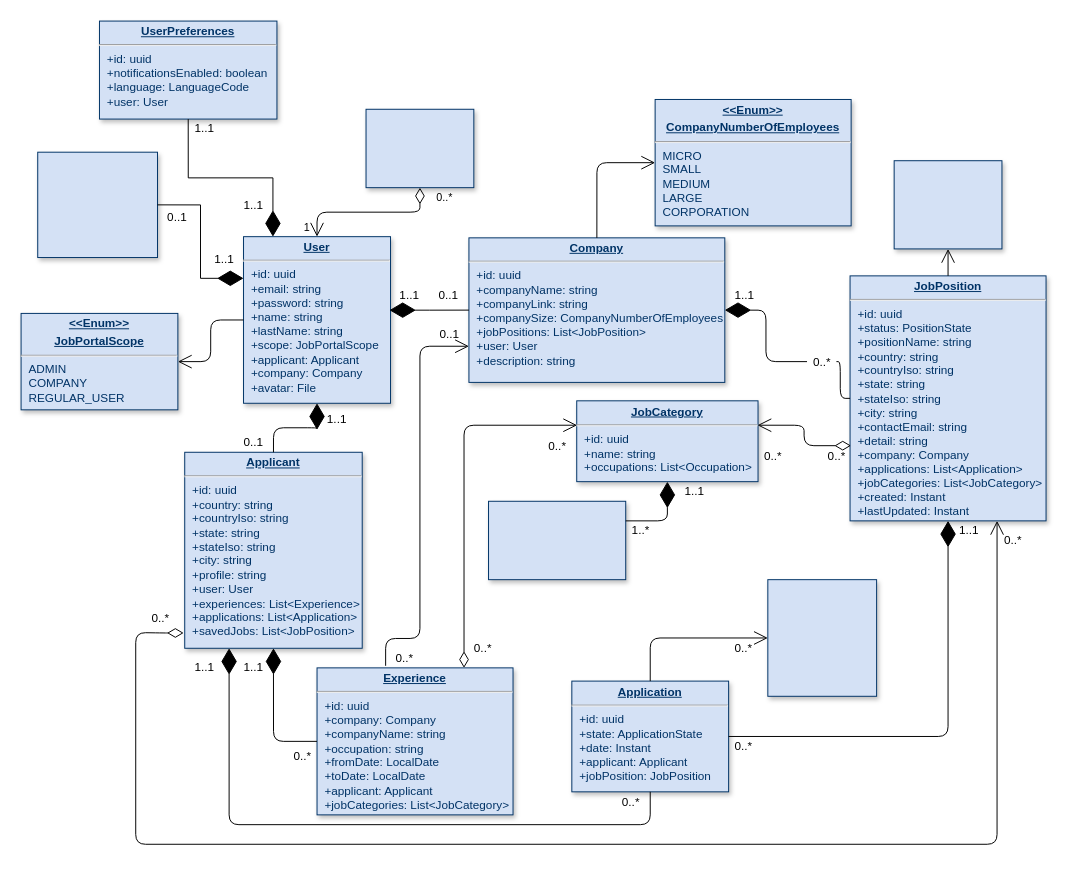
The diagram is 1069 pixels wide and 878 high, and some of its shapes have lost their labels. Here are the shapes that lost their labels. From the top down, the centre of each, then its label:
At pixel 420 149: "RefreshToken +token: string +expires: Instant +user: User".
At pixel 98 205: "File +id: uuid +name: string +ext: string +data: byte[] +uploadedBy: User".
At pixel 948 206: "<<Enum>> PositionState ACTIVE INACTIVE".
At pixel 558 541: "Occupation +id: uuid +name: string +category: JobCategory".
At pixel 822 639: "<<Enum>> ApplicationState OPEN SEEN APPROVED DECLINED".
